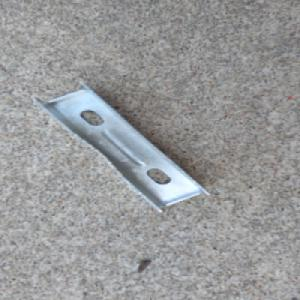ClampPart: (30, 81, 212, 215)
